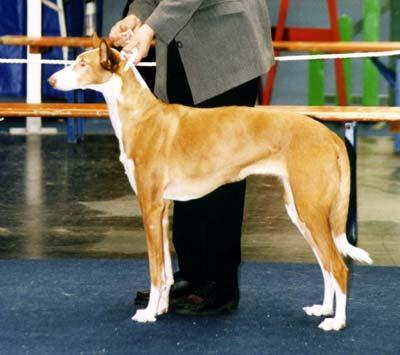Ibizan_hound: (45, 29, 376, 333)
